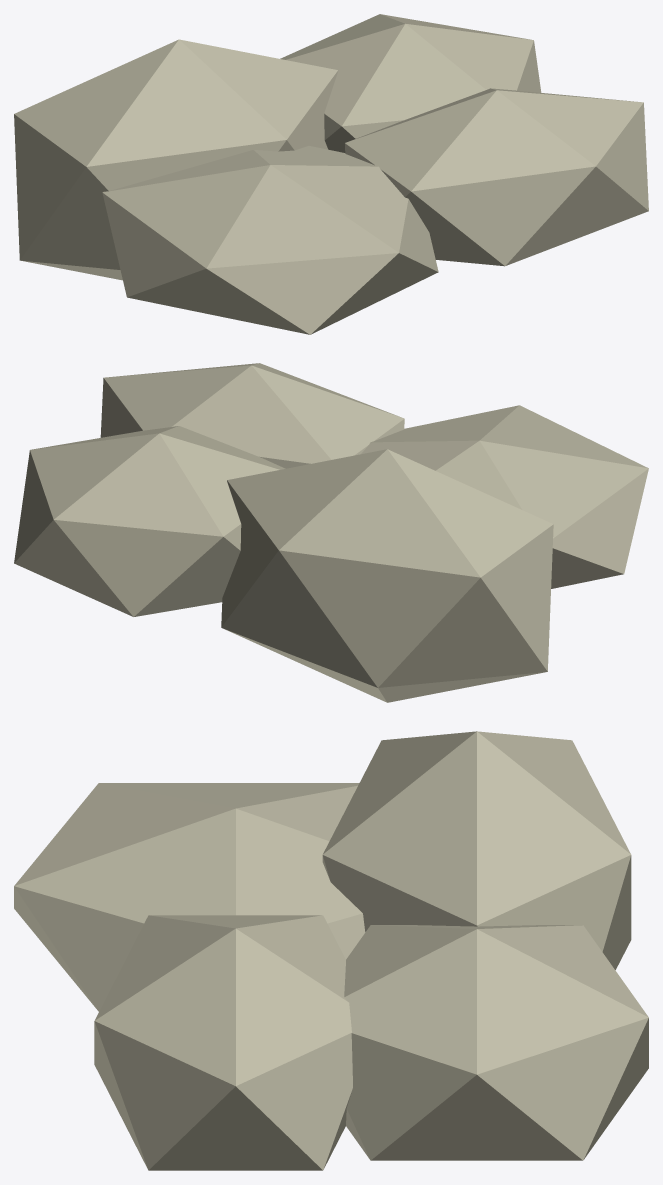
File: rocks.glb
The picture shows the model from 3 angles, top to bottom: view 1: azimuth 30°, elevation 25°; view 2: azimuth 150°, elevation 25°; view 3: azimuth 270°, elevation 25°; orthographic projection. The views are drawn at different scales.
Parts seen in each view (by area): view 1: rocks_World_Mesh; view 2: rocks_World_Mesh; view 3: rocks_World_Mesh.
Boxes of the visible parts, x1,y1,x2,y2 form: rocks_World_Mesh: (14, 14, 648, 334); rocks_World_Mesh: (14, 363, 648, 702); rocks_World_Mesh: (14, 731, 648, 1170).
Size of the model in its own units: 1.41 by 0.6379 by 1.11.
